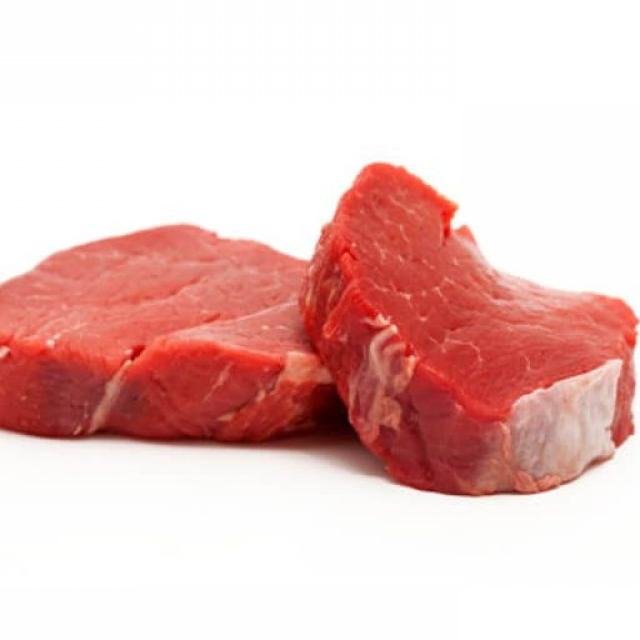beef: (295, 158, 640, 495), (0, 218, 325, 435)
